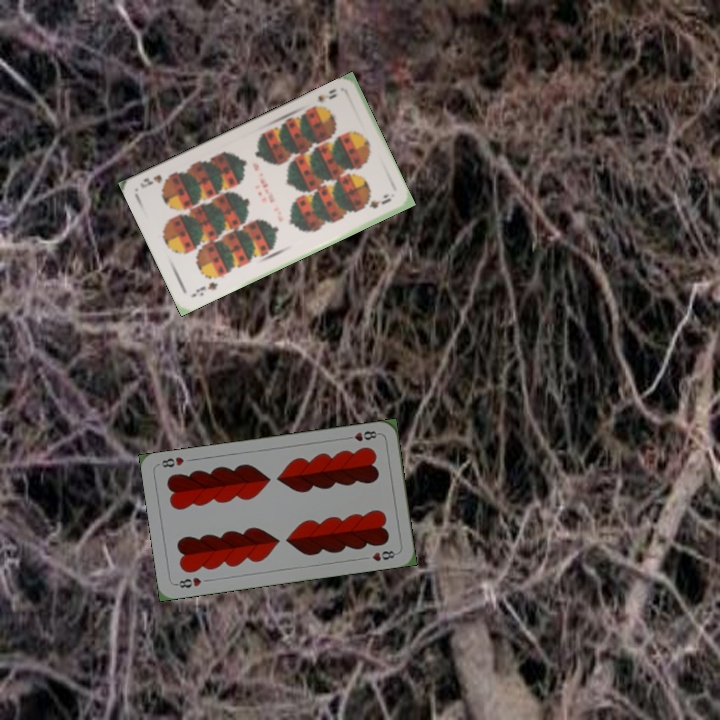H8: (342, 427, 382, 444), (172, 573, 204, 590)
S9: (312, 84, 339, 106), (192, 278, 220, 299)
